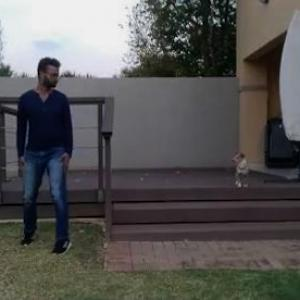follow: (22, 51, 78, 253)
